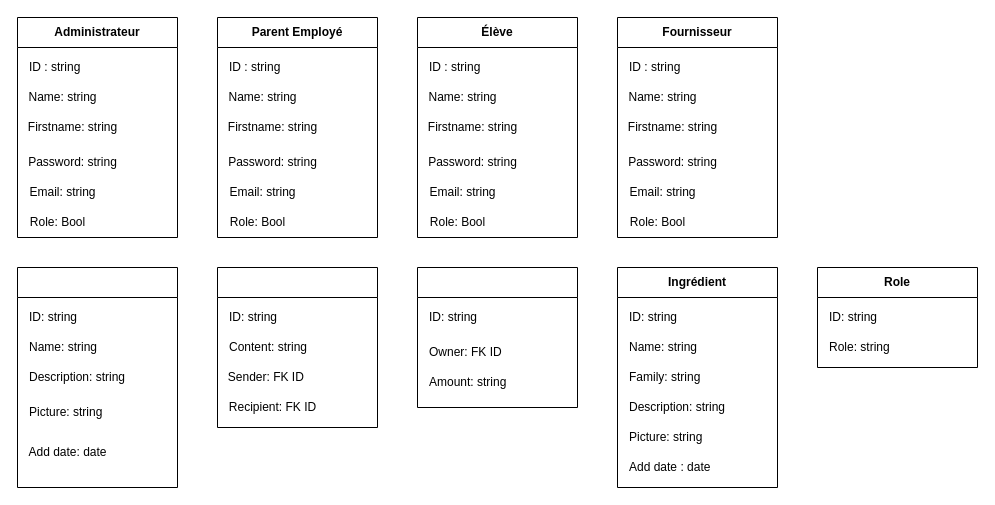
Some shapes in this 995 by 505 pixel diagram are drawn without their labels. Each missing label, with the box of its shape:
Contact: (216, 266, 378, 428)
Event: (16, 266, 178, 488)
Wallet: (416, 266, 578, 408)
